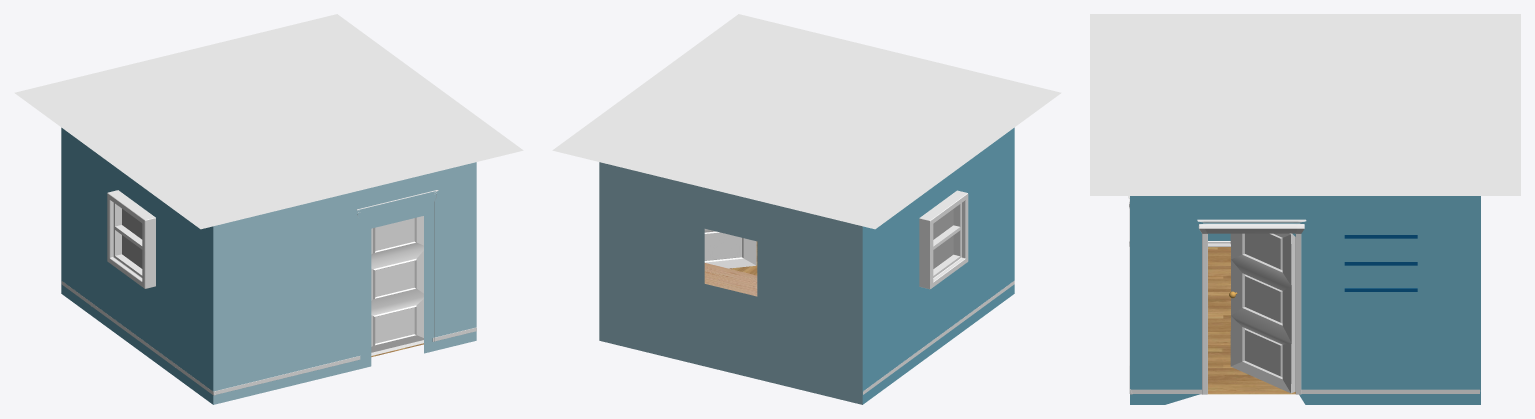
File: andy_room.gltf
3 renders of one model, left to right at view 1: azimuth 30°, elevation 25°; view 2: azimuth 150°, elevation 25°; view 3: azimuth 270°, elevation 25°, orthographic. The views are drawn at different scales.
Visible parts, largest first — view 1: Ceiling_Poly, South_Wall_Poly, West_Wall_Poly, Closet_Door_Poly, polySurface4, Floor_Molding1, Floor_Molding2; view 2: Ceiling_Poly, North_Wall_Poly, West_Wall_Poly, polySurface4, Entrance_Door_Poly, Desk_Poly, Floor_Molding1; view 3: Ceiling_Poly, East_Wall_Poly, Entrance_Door_Poly, Floor_Poly, Entrance_Doorframe_Poly, Floor_Molding5.
Boxes of the visible parts, x1=… form: Ceiling_Poly: x1=14, y1=14, x2=523, y2=229; South_Wall_Poly: x1=213, y1=162, x2=476, y2=404; West_Wall_Poly: x1=61, y1=127, x2=213, y2=404; Closet_Door_Poly: x1=371, y1=216, x2=423, y2=355; polySurface4: x1=107, y1=190, x2=155, y2=288; Floor_Molding1: x1=61, y1=281, x2=215, y2=395; Floor_Molding2: x1=214, y1=356, x2=360, y2=394; Ceiling_Poly: x1=552, y1=14, x2=1061, y2=229; North_Wall_Poly: x1=599, y1=162, x2=862, y2=404; West_Wall_Poly: x1=862, y1=127, x2=1014, y2=404; polySurface4: x1=919, y1=190, x2=968, y2=289; Entrance_Door_Poly: x1=704, y1=229, x2=756, y2=268; Desk_Poly: x1=704, y1=263, x2=757, y2=296; Floor_Molding1: x1=863, y1=280, x2=1014, y2=394; Ceiling_Poly: x1=1090, y1=14, x2=1520, y2=195; East_Wall_Poly: x1=1130, y1=196, x2=1480, y2=404; Entrance_Door_Poly: x1=1229, y1=233, x2=1295, y2=393; Floor_Poly: x1=1208, y1=247, x2=1295, y2=394; Entrance_Doorframe_Poly: x1=1197, y1=219, x2=1306, y2=394; Floor_Molding5: x1=1301, y1=389, x2=1479, y2=393.
Size of the model in its own units: 2.33 by 1.35 by 2.33.
Materials: 26 (22 with a texture image).
